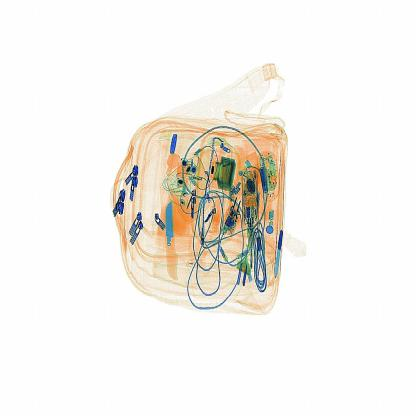wrench: (158, 199, 186, 296)
